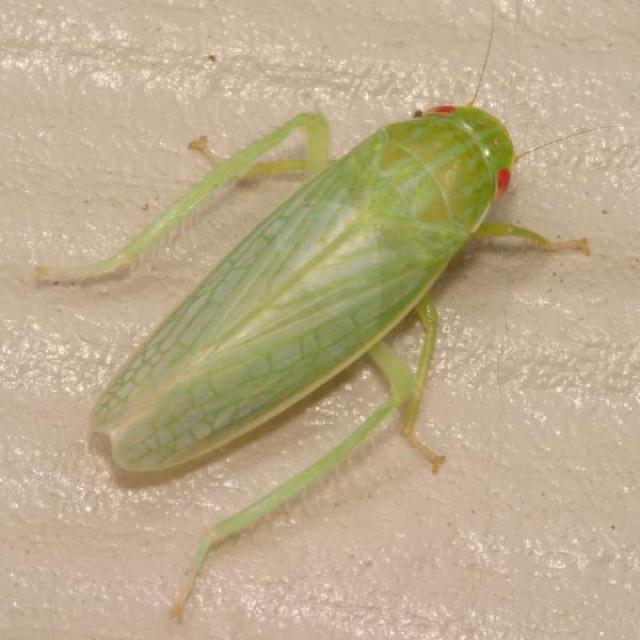Yechan: (38, 72, 607, 543)
